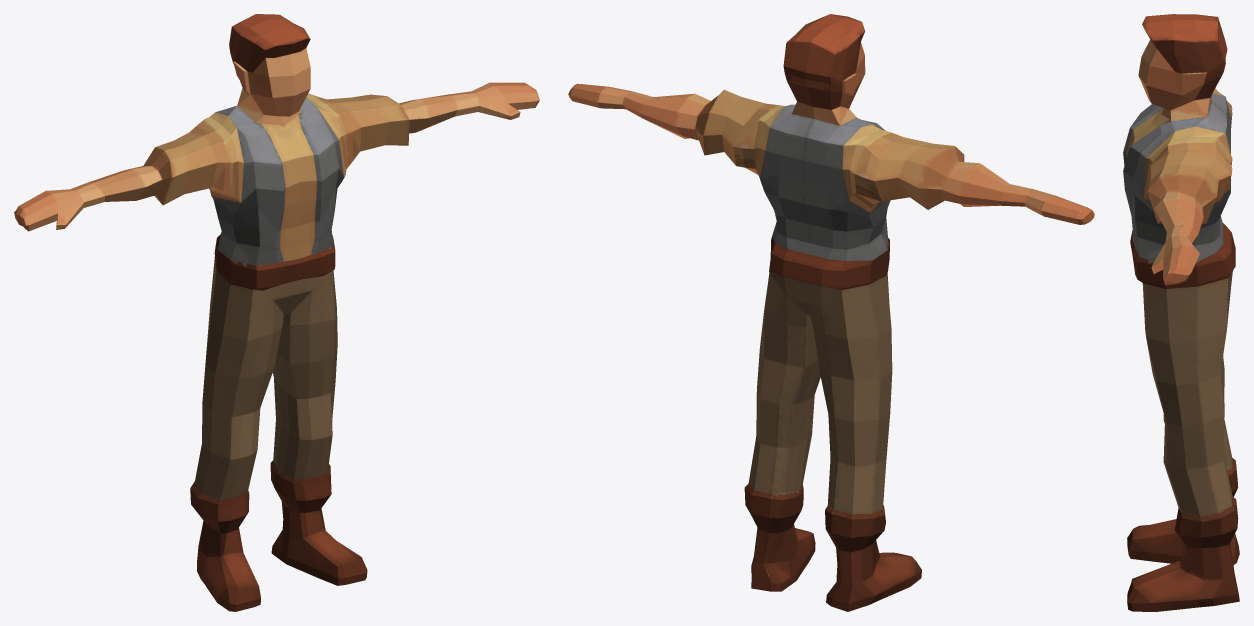
Rendered from benedict.fbx.
3 views of the same model, side by side, from view 1: azimuth 30°, elevation 25°; view 2: azimuth 150°, elevation 25°; view 3: azimuth 270°, elevation 25° (orthographic).
Visible parts, largest first — view 1: sm_benedict_t_pose; view 2: sm_benedict_t_pose; view 3: sm_benedict_t_pose.
Boxes of the visible parts, x1=… form: sm_benedict_t_pose: x1=14, y1=14, x2=539, y2=611; sm_benedict_t_pose: x1=568, y1=14, x2=1094, y2=611; sm_benedict_t_pose: x1=1123, y1=14, x2=1239, y2=611.
Bounding box in the file's own units: 165 × 169 × 32.04.
1 material, 1 textured.
